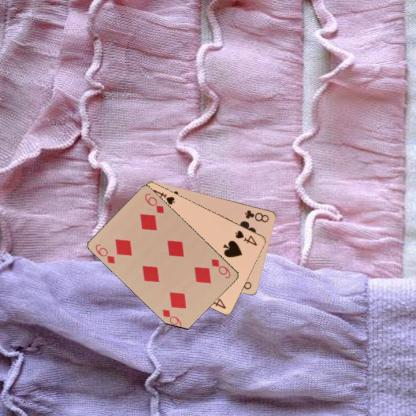4s: (233, 228, 258, 246)
6d: (209, 256, 232, 280), (93, 242, 116, 265)
8c: (242, 208, 270, 224)
